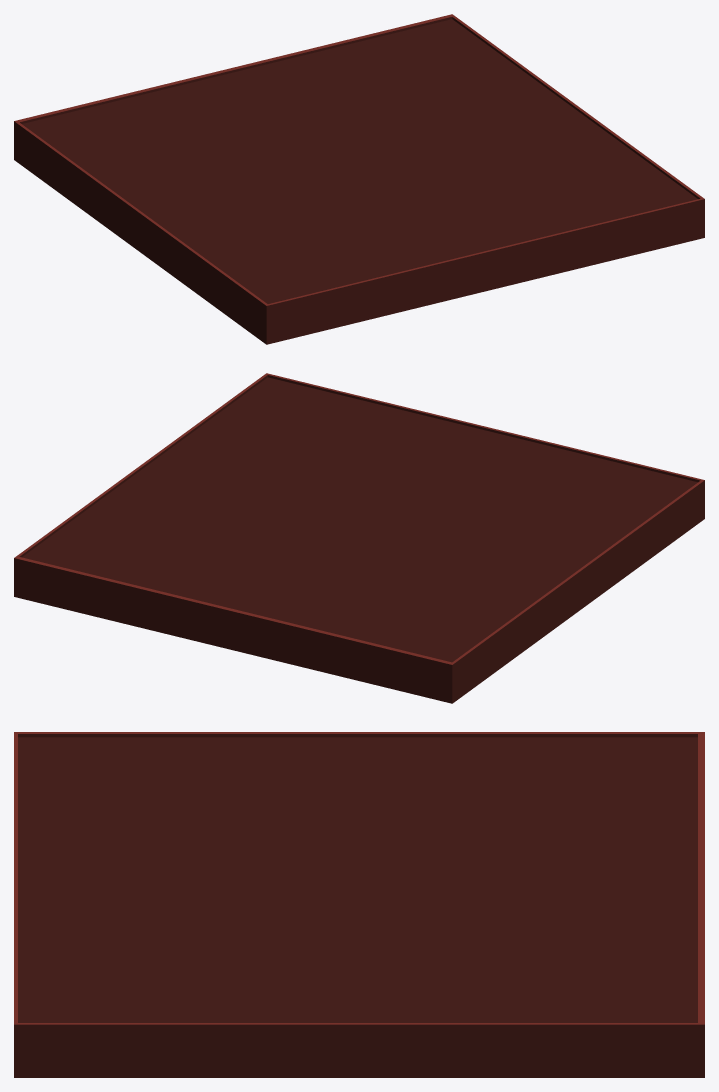
Rendered from Cupcake Tray Sort - Board 3.fbx.
3 views of the same model, one above another, from view 1: azimuth 30°, elevation 25°; view 2: azimuth 150°, elevation 25°; view 3: azimuth 270°, elevation 25° (orthographic). The views are drawn at different scales.
Parts seen in each view (by area): view 1: board 3; view 2: board 3; view 3: board 3.
Part boxes in pixels (x1,y1,x2,y2): board 3: (14,14,704,344); board 3: (14,373,704,703); board 3: (14,732,704,1077).
Bounding box in the file's own units: 0.0997 × 0.0995 × 0.00843.
